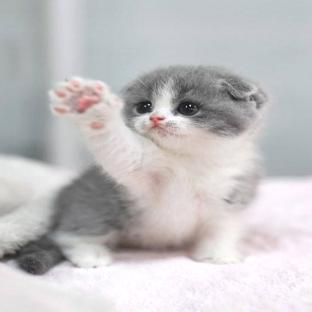Animal: (1, 65, 269, 274)
